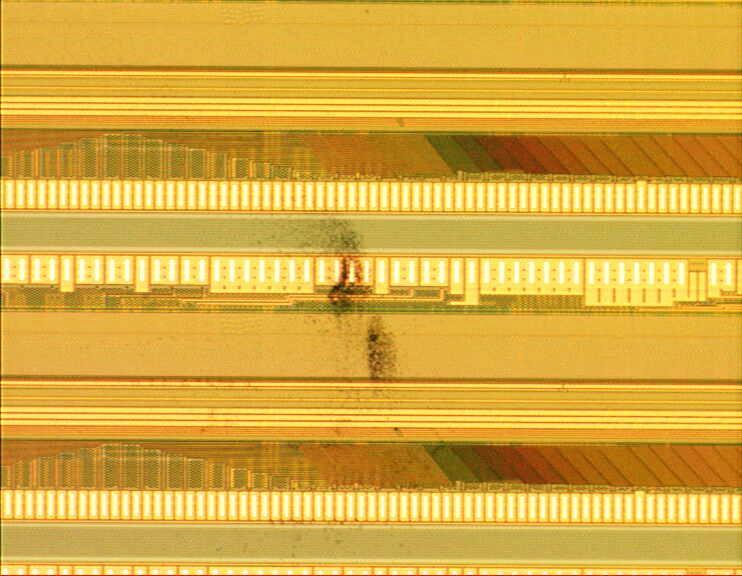PO CONTAMINATION: (235, 188, 437, 480)
